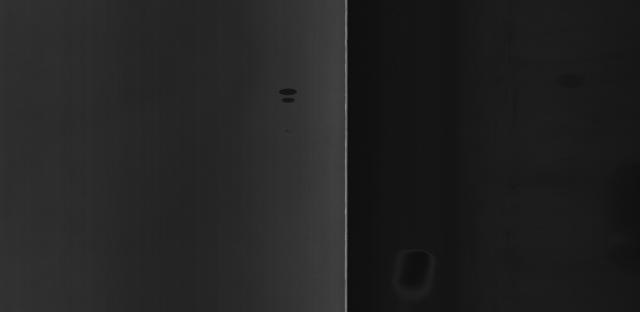oil_spot: (265, 78, 313, 106)
